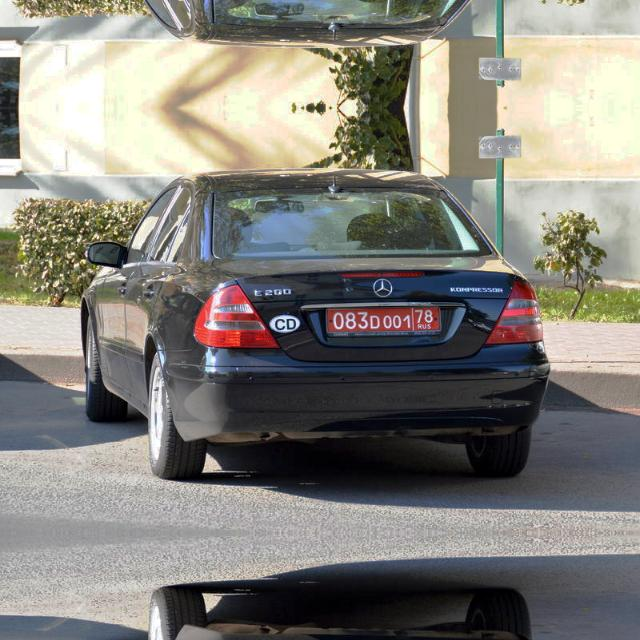diplomatic: (321, 302, 445, 336)
